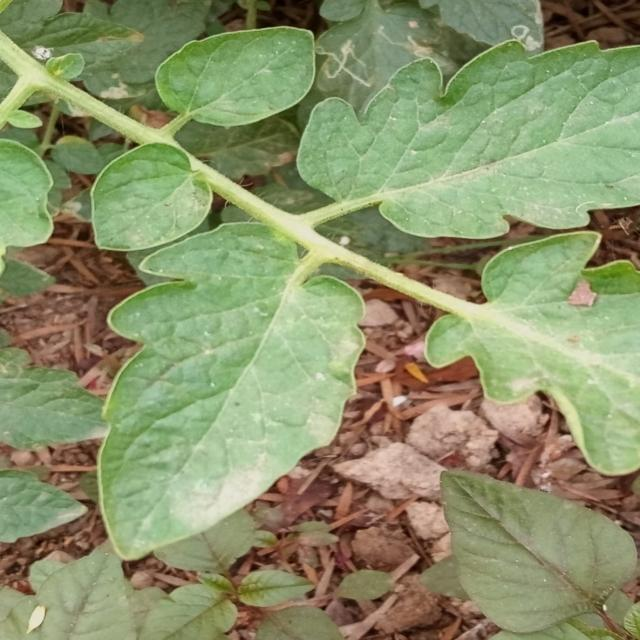Healthy: (92, 212, 372, 576), (298, 42, 639, 238), (152, 24, 319, 132), (81, 134, 219, 257)
